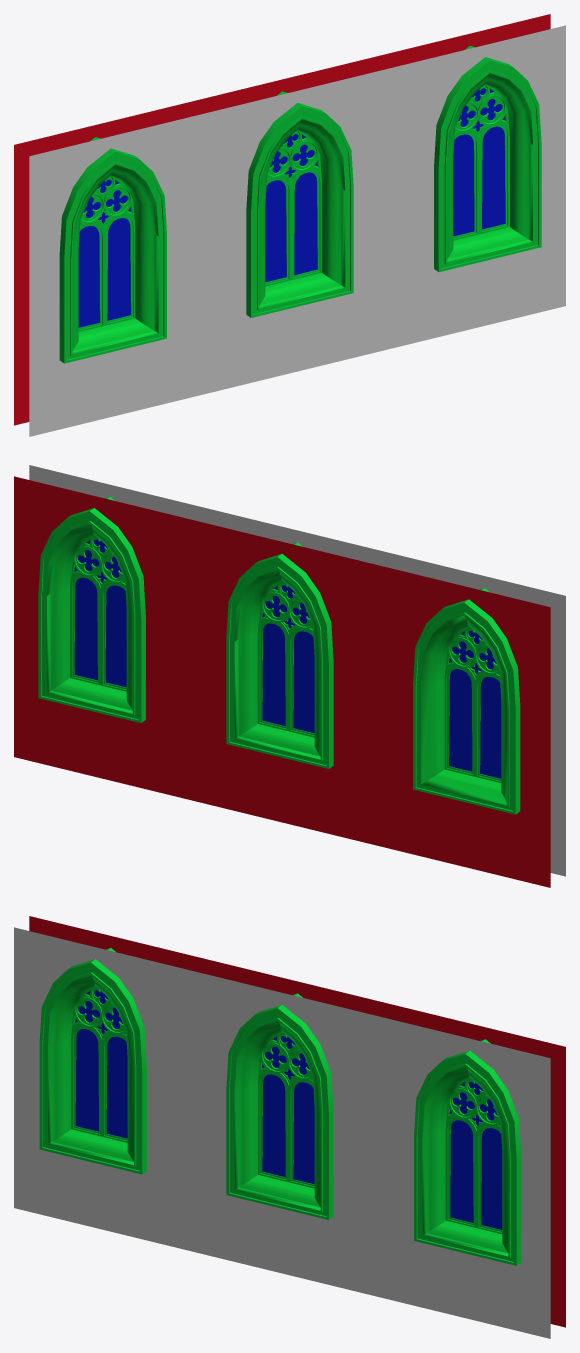
The model's file is Wall_Windows_2 (1).fbx.
The picture shows the model from 3 angles, top to bottom: view 1: azimuth 30°, elevation 25°; view 2: azimuth 150°, elevation 25°; view 3: azimuth 330°, elevation 25°; orthographic projection.
Visible parts, largest first — view 1: Windows_3.001; view 2: Windows_3.001; view 3: Windows_3.001.
Part boxes in pixels (left/top/right/bottom): Windows_3.001: left=14, top=14, right=565, bottom=436; Windows_3.001: left=14, top=465, right=565, bottom=887; Windows_3.001: left=14, top=916, right=565, bottom=1338.
Bounding box in the file's own units: 1000 × 500 × 79.94.
